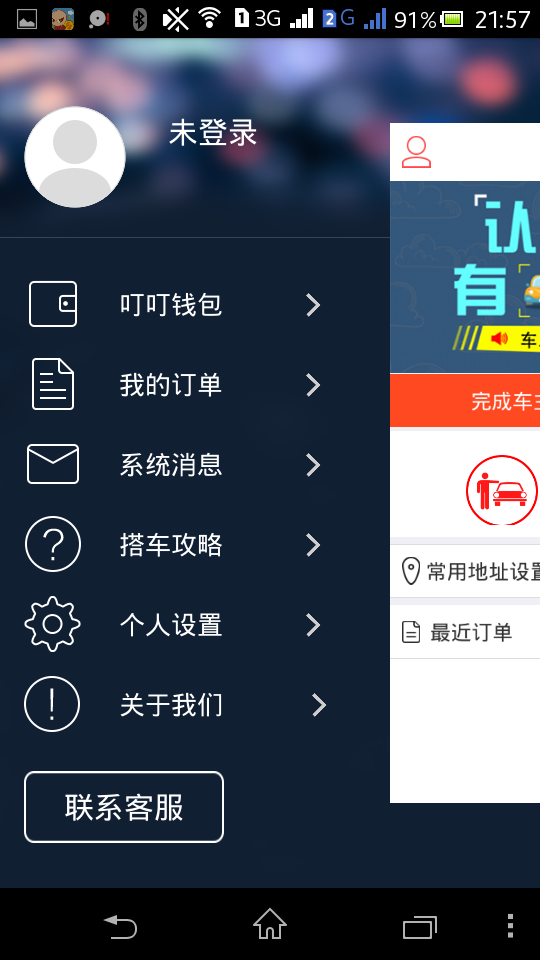button: (14, 765, 238, 850)
imgbutton: (282, 284, 341, 333)
imgview: (12, 98, 136, 217)
textview: (8, 240, 383, 746), (162, 108, 266, 153)
